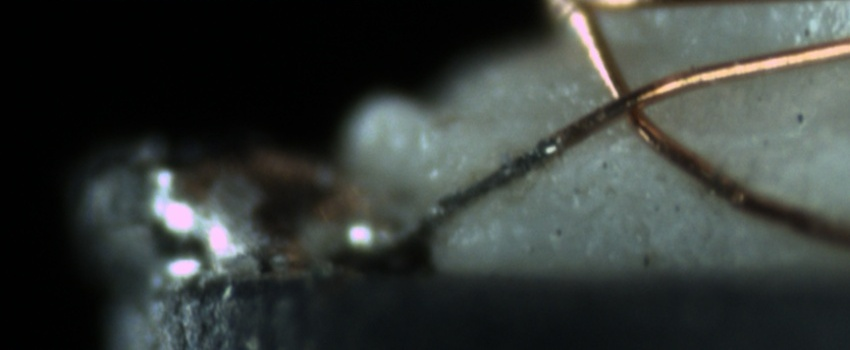CL: (600, 74, 662, 131)
DL: (646, 117, 816, 161)
TS: (391, 132, 560, 251)
